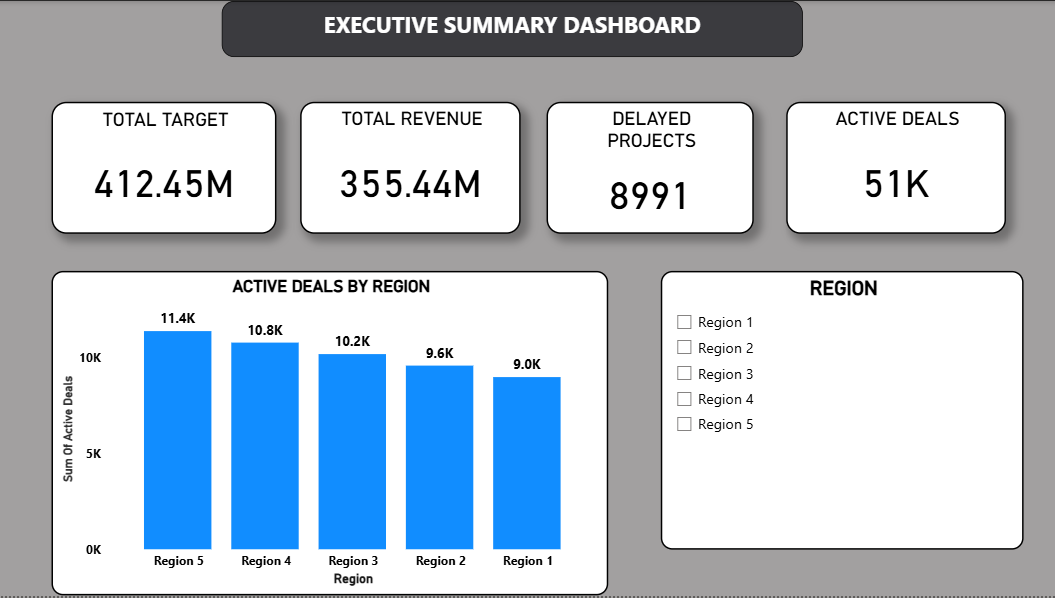

This screenshot's page, from the dashboard's own definition file:
{"tool":"powerbi","page":{"name":"Page 1","canvas":[1280,720],"ordinal":0},"visuals":[{"type":"textbox","box":[268.1,0,703.6,68.2],"z":0},{"type":"card","title":"TOTAL TARGET","fields":{"Values":["Sum(public salessummary.targetrevenue)"]},"box":[62.4,122.1,272.6,160],"z":1000},{"type":"card","title":"DELAYED PROJECTS","fields":{"Values":["Sum(public salessummary.projectdelays)"]},"box":[661.8,122.1,250.9,160],"z":2000},{"type":"card","title":"TOTAL REVENUE","fields":{"Values":["Sum(public salessummary.totalrevenue)"]},"box":[363.5,122.1,267.2,160],"z":3000},{"type":"card","title":"ACTIVE DEALS","fields":{"Values":["Sum(public salessummary.activedeals)"]},"box":[952.1,122.1,265.8,160],"z":4000},{"type":"clusteredColumnChart","title":" ACTIVE DEALS BY REGION","fields":{"Category":["public salessummary.region"],"Y":["Sum(public salessummary.activedeals)"]},"box":[62.4,326.8,674,393.3],"z":5000},{"type":"slicer","title":"REGION","fields":{"Values":["public salessummary.region"]},"box":[800.2,326.8,439.4,337.7],"z":6000}]}

Visuals, with their boxes in screenshot pixels (x1, y1, x2, y2), scaled from the page's 1280x720 canvas onto the 1055x598 screenshot:
textbox: <region>221, 0, 801, 57</region>
"TOTAL TARGET" card: <region>51, 101, 276, 234</region>
"DELAYED PROJECTS" card: <region>545, 101, 752, 234</region>
"TOTAL REVENUE" card: <region>300, 101, 520, 234</region>
"ACTIVE DEALS" card: <region>785, 101, 1004, 234</region>
" ACTIVE DEALS BY REGION" clusteredColumnChart: <region>51, 271, 607, 597</region>
"REGION" slicer: <region>660, 271, 1022, 552</region>
